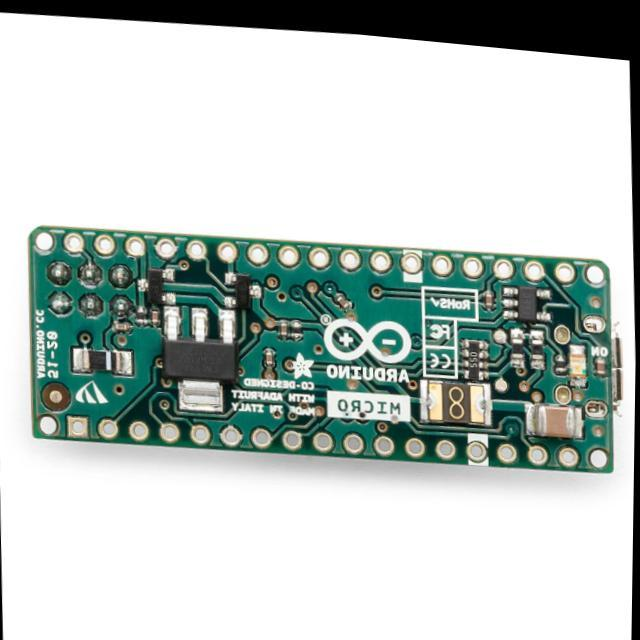Arduino-Micro: (31, 228, 622, 474)
